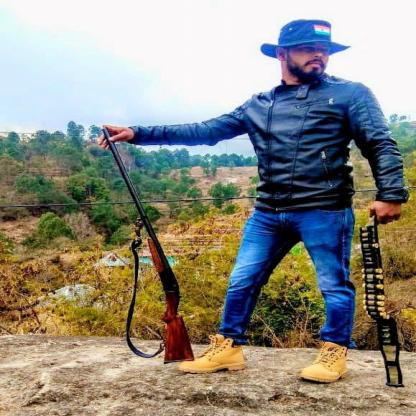rifle: (99, 126, 197, 366)
